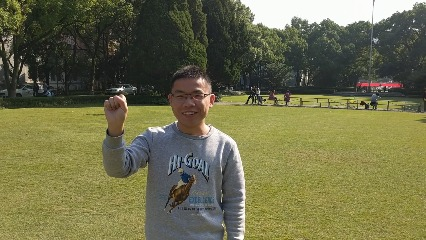fist: (100, 93, 131, 123)
